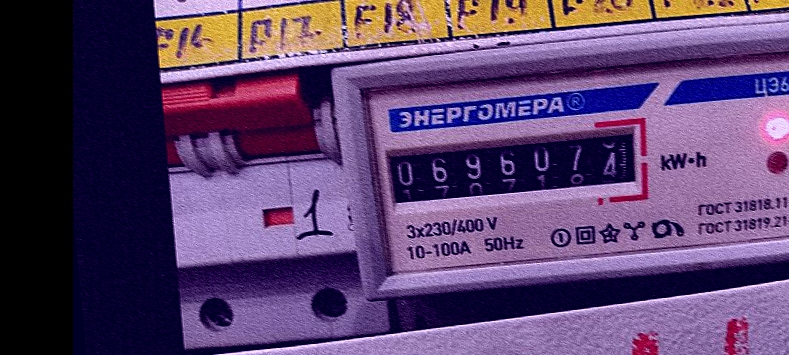0: (393, 156, 415, 186), (529, 143, 550, 171)
4: (597, 149, 618, 178)
6: (496, 146, 516, 175), (427, 154, 447, 182)
7: (563, 140, 585, 171)
9: (461, 151, 481, 180)
screen: (370, 112, 656, 223)
